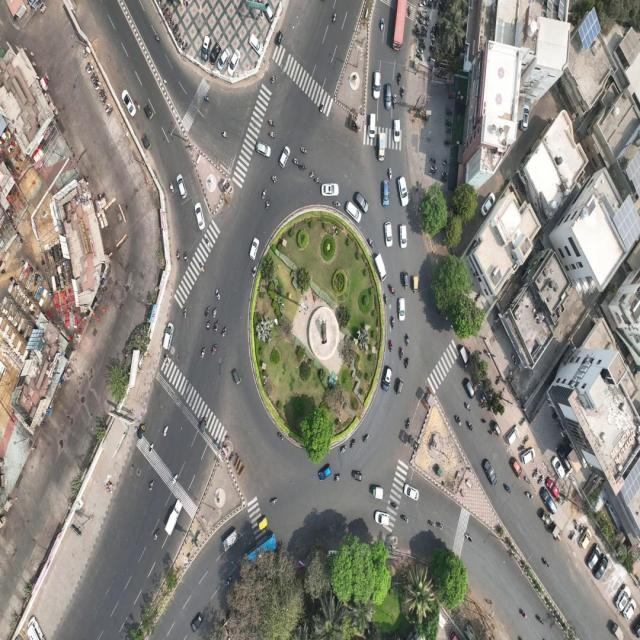3W: (144, 103, 154, 120), (199, 417, 208, 434), (142, 134, 151, 150), (137, 424, 146, 440), (232, 369, 241, 385), (258, 517, 268, 531), (492, 421, 501, 436), (276, 29, 283, 48), (351, 471, 362, 483), (397, 379, 404, 396), (403, 271, 408, 290), (413, 275, 418, 294)
Bus: (393, 0, 407, 52)
Cars: (121, 89, 137, 117), (541, 488, 557, 515), (615, 584, 631, 611), (484, 459, 498, 487), (228, 49, 241, 77), (346, 201, 362, 223), (594, 555, 608, 580), (398, 177, 409, 207), (217, 47, 230, 72), (589, 545, 602, 570), (163, 322, 174, 351), (200, 36, 212, 62), (250, 34, 264, 56), (355, 191, 369, 213), (623, 599, 637, 621), (176, 174, 188, 199), (194, 203, 205, 230), (553, 457, 566, 479), (510, 457, 523, 479), (210, 43, 222, 66), (579, 528, 592, 549), (507, 426, 520, 446), (404, 484, 419, 501), (279, 146, 290, 169), (263, 1, 274, 23), (464, 377, 475, 399), (256, 142, 271, 158), (522, 447, 536, 464), (546, 479, 559, 497), (382, 368, 392, 391), (191, 614, 203, 633), (375, 511, 390, 526), (322, 184, 339, 197), (460, 346, 470, 368), (249, 238, 259, 260), (319, 466, 332, 482), (385, 84, 392, 110), (385, 222, 392, 247), (400, 224, 407, 249), (374, 71, 380, 99), (383, 181, 389, 207), (394, 119, 400, 142), (399, 298, 405, 321)
LCV: (165, 500, 182, 536), (222, 528, 238, 552), (374, 253, 387, 282), (612, 623, 624, 640), (370, 486, 383, 501), (379, 133, 385, 161), (370, 113, 376, 138)
M2W: (264, 198, 271, 210), (270, 75, 278, 84), (332, 11, 338, 23), (300, 146, 308, 155), (262, 188, 268, 200), (456, 414, 462, 426), (525, 491, 533, 500), (163, 425, 169, 437), (211, 344, 217, 356), (464, 402, 471, 412), (363, 433, 370, 443), (277, 431, 284, 441), (225, 577, 232, 587), (406, 418, 412, 429), (523, 434, 529, 445), (505, 483, 511, 494), (154, 529, 160, 540), (390, 283, 395, 296), (183, 306, 188, 319), (201, 347, 206, 360), (205, 305, 210, 318), (214, 320, 219, 333), (309, 170, 317, 178), (270, 497, 278, 505), (222, 131, 229, 140), (271, 175, 278, 184), (417, 46, 424, 55), (465, 533, 472, 542), (401, 515, 408, 524), (393, 93, 397, 108), (512, 354, 517, 366), (486, 349, 492, 359), (468, 421, 474, 431), (521, 609, 527, 619), (334, 473, 340, 483), (172, 474, 178, 484), (222, 326, 227, 338), (169, 181, 174, 193), (299, 163, 307, 170), (445, 108, 452, 116), (391, 316, 395, 330), (537, 617, 544, 625), (206, 320, 211, 331), (423, 18, 429, 27), (543, 558, 549, 567), (350, 439, 356, 448), (397, 72, 401, 85), (405, 333, 409, 346), (400, 347, 404, 360), (155, 33, 160, 43), (369, 238, 374, 248), (534, 469, 539, 479), (570, 530, 575, 540), (149, 481, 154, 491), (204, 95, 211, 102), (269, 132, 276, 139), (293, 159, 300, 166), (314, 177, 321, 184), (448, 92, 455, 99), (437, 523, 444, 530), (428, 521, 435, 528), (340, 446, 347, 453), (320, 102, 324, 114), (333, 201, 341, 207), (380, 19, 384, 31), (429, 158, 437, 164), (428, 170, 436, 176), (389, 340, 393, 352), (185, 251, 189, 263), (176, 249, 180, 261), (252, 265, 256, 277), (525, 475, 530, 484), (149, 443, 154, 452), (405, 358, 409, 369), (574, 519, 578, 530), (216, 289, 220, 300), (200, 262, 204, 273), (269, 120, 275, 127), (446, 120, 452, 127), (441, 177, 448, 183), (390, 502, 397, 508), (213, 308, 217, 318), (409, 4, 412, 17), (401, 86, 404, 99), (389, 167, 392, 180), (385, 293, 388, 306), (446, 129, 452, 135), (443, 159, 449, 165), (431, 165, 438, 170), (207, 239, 210, 249), (445, 141, 452, 145), (442, 172, 449, 176)
